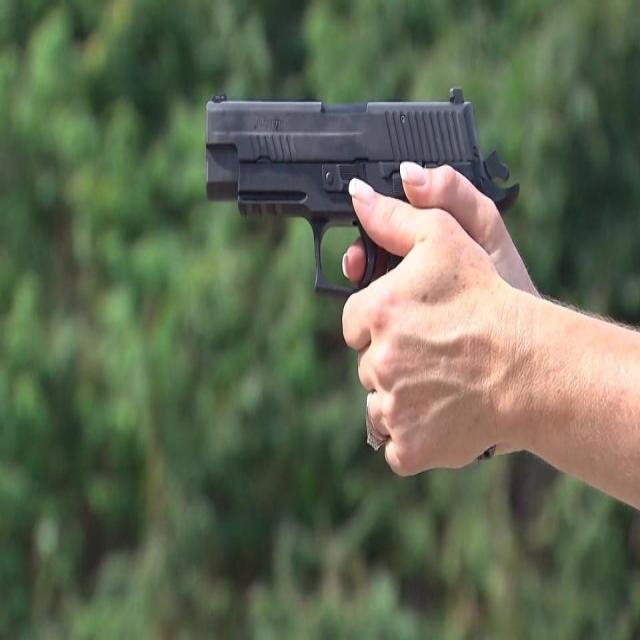weapon: (201, 70, 523, 487)
